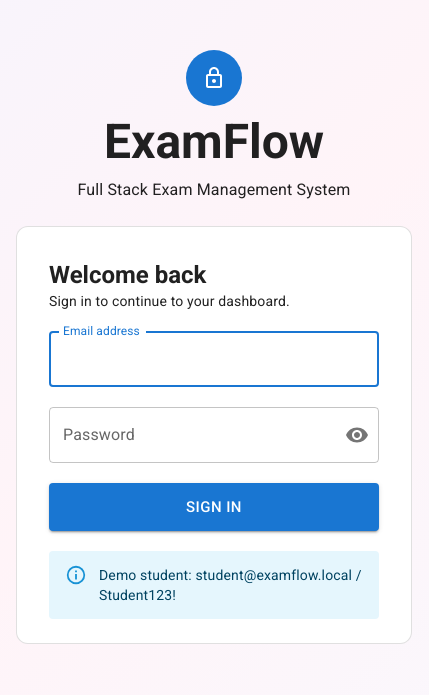
LoginPage › shows an error for incorrect credentials
Type "student@example.com" into the field labelled "Email address" at [214, 359], box [49,331,379,387]
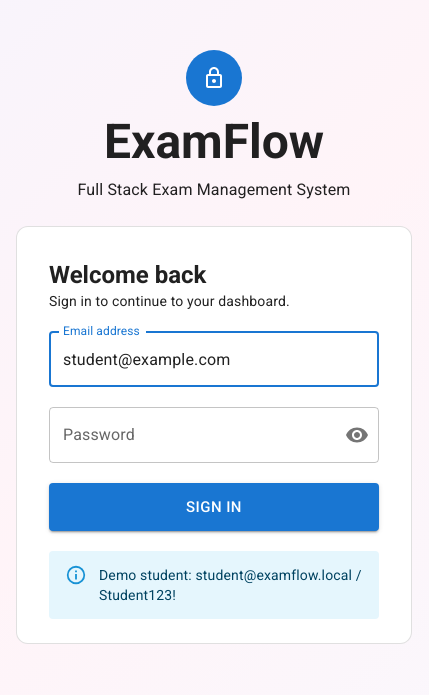
Type "Incorrect123!" into the password field labelled "Password" at [189, 435], box [49,407,329,463]
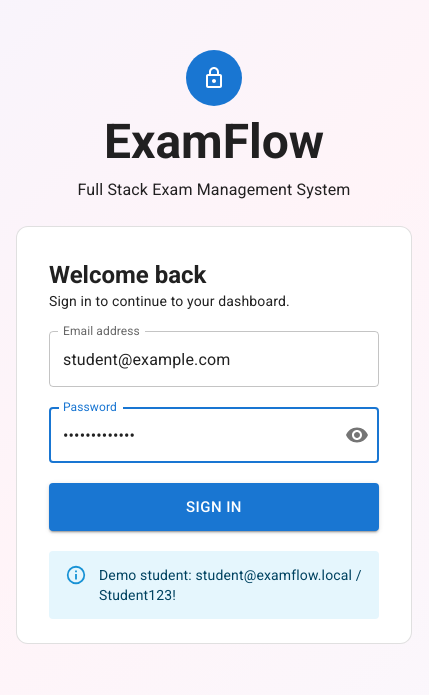
Click the button "Sign in" at [214, 507], box [49,483,379,531]
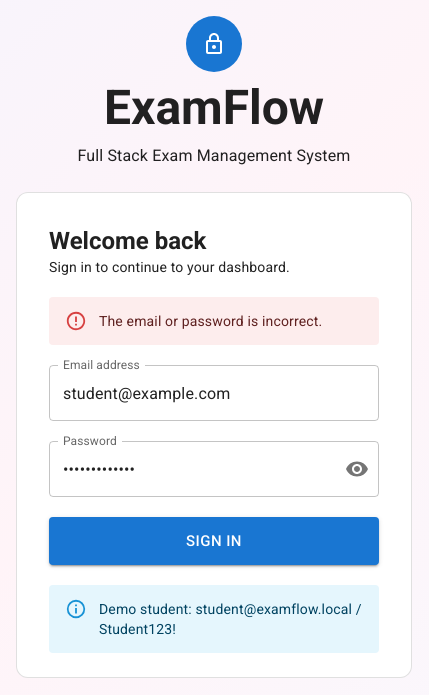
Expected: the text "The email or password is incorrect." is shown, [99,313,322,329]
